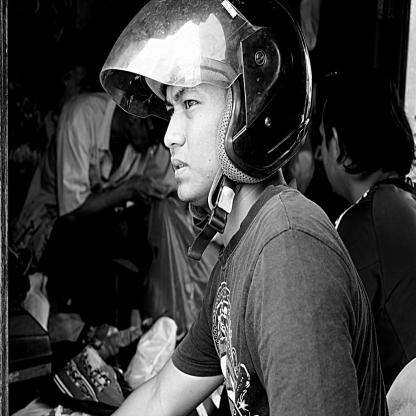Helmet: (114, 7, 302, 205)
